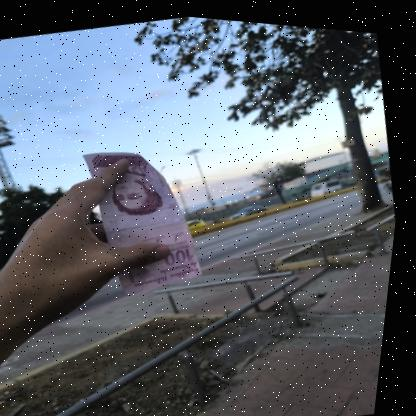one_hundred-front-vef: (71, 128, 222, 306)
